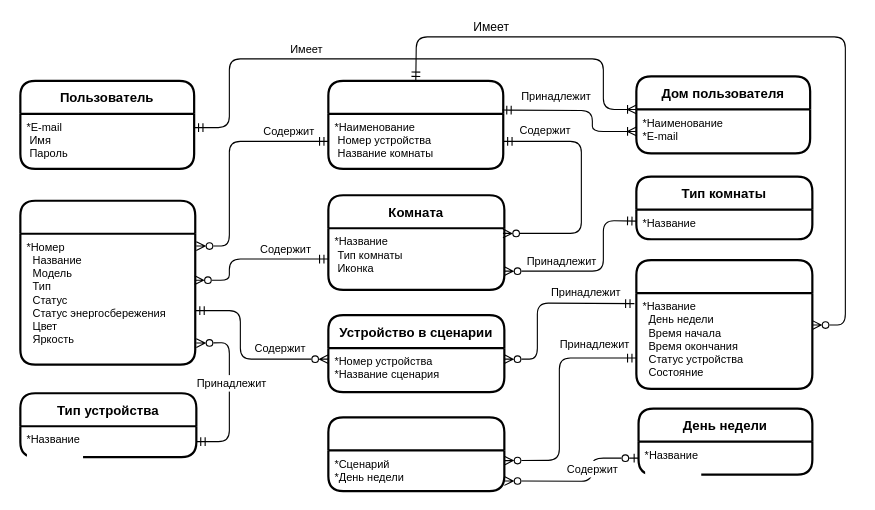
The diagram is 875 pixels wide and 510 high, and some of its shapes have lost their labels. Here are the shapes that lost their labels. From the top down, the box of each, then its label:
(327, 79, 504, 169): Дом
(19, 199, 196, 365): Устройство
(635, 258, 813, 389): Сценарий
(327, 416, 505, 492): День недели в сценарии
